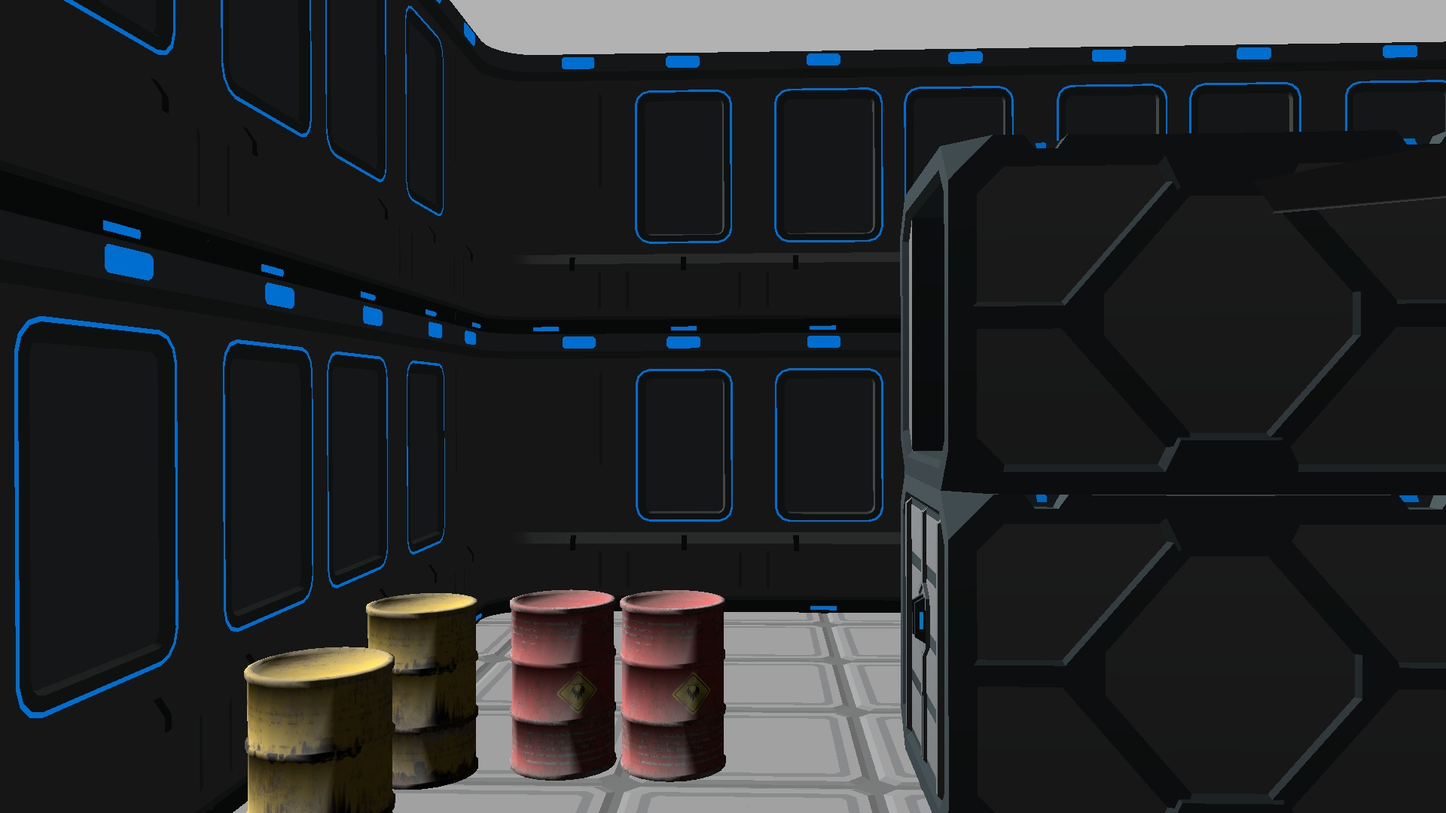toxic barrel: (244, 647, 395, 813), (366, 593, 479, 791), (508, 590, 616, 781), (619, 591, 726, 782)
